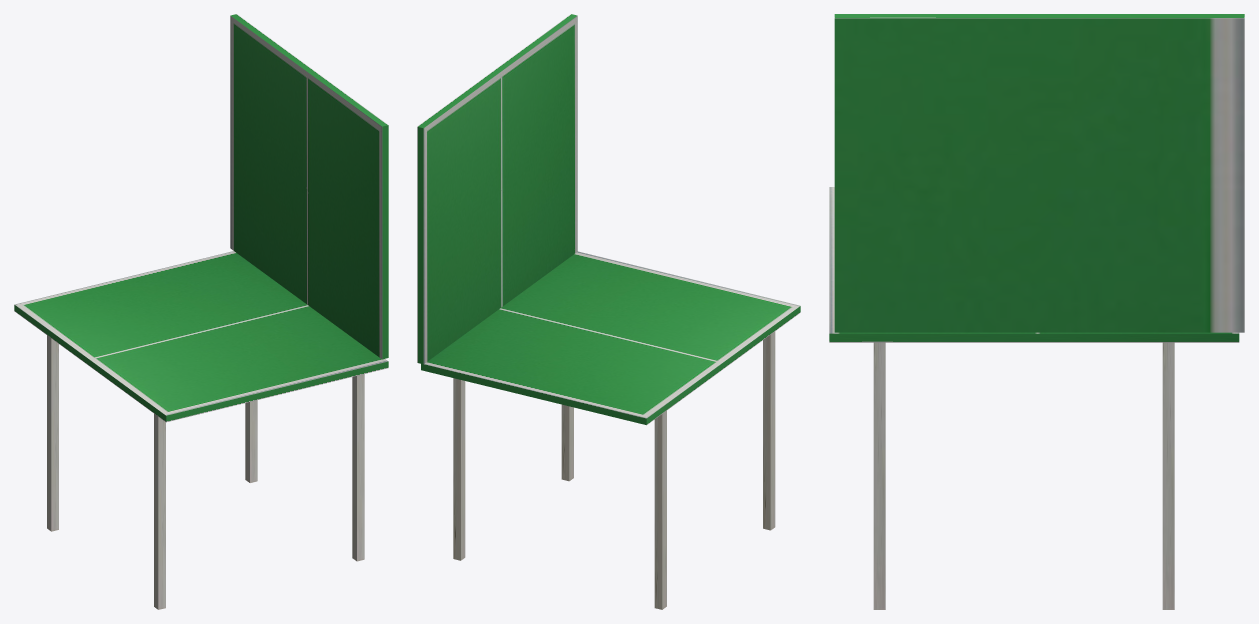
Rendered from pingpong.fbx.
3 renders of one model, left to right at view 1: azimuth 30°, elevation 25°; view 2: azimuth 150°, elevation 25°; view 3: azimuth 270°, elevation 25°, orthographic. The views are drawn at different scales.
Parts seen in each view (by area): view 1: pCube701, pCube700, pCube705, pCube702, pCube703, pCube704; view 2: pCube701, pCube700, pCube703, pCube702, pCube704, pCube705; view 3: pCube701, pCube700, pCube704, pCube705.
Part boxes in pixels (bbox=[...]): pCube701: bbox=[230, 14, 388, 359]; pCube700: bbox=[14, 251, 388, 422]; pCube705: bbox=[352, 374, 364, 561]; pCube702: bbox=[47, 335, 58, 531]; pCube703: bbox=[154, 413, 165, 609]; pCube704: bbox=[245, 400, 257, 482]; pCube701: bbox=[417, 14, 577, 364]; pCube700: bbox=[421, 251, 800, 425]; pCube703: bbox=[763, 331, 775, 530]; pCube702: bbox=[654, 411, 666, 609]; pCube704: bbox=[453, 378, 465, 560]; pCube705: bbox=[561, 404, 573, 481]; pCube701: bbox=[834, 14, 1244, 332]; pCube700: bbox=[829, 187, 1239, 342]; pCube704: bbox=[1162, 342, 1174, 609]; pCube705: bbox=[873, 342, 885, 609].
Bounding box in the file's own units: 6.73 × 12.7 × 8.
